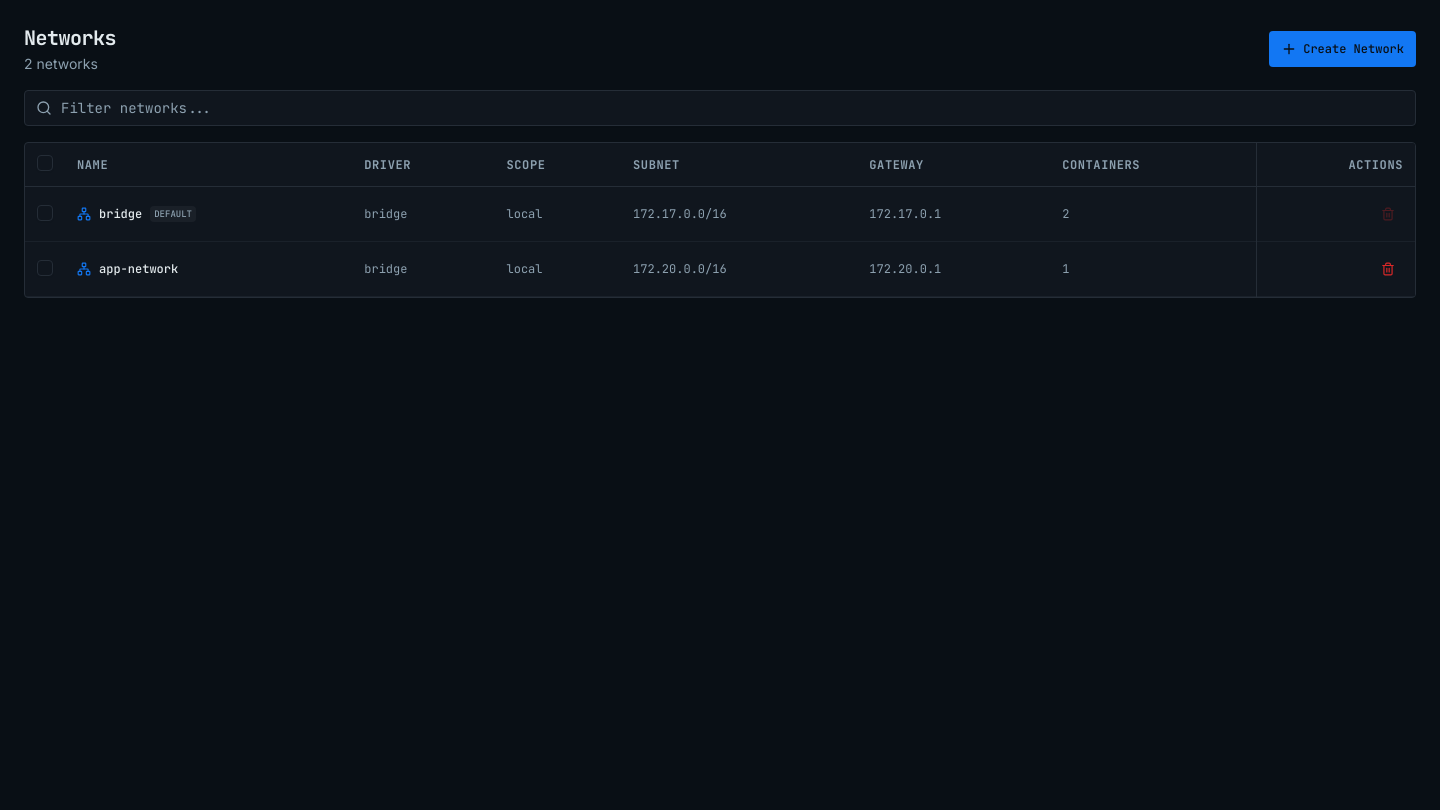
Test: Networks page › deletes nothing when the confirmation is cancelled
This screenshot has width=1440, height=810.
Expected: the text "app-network" is shown, [99,261,178,277]
Click the button without text in the row of "app-network": (1388, 269) [1373,254,1403,284]
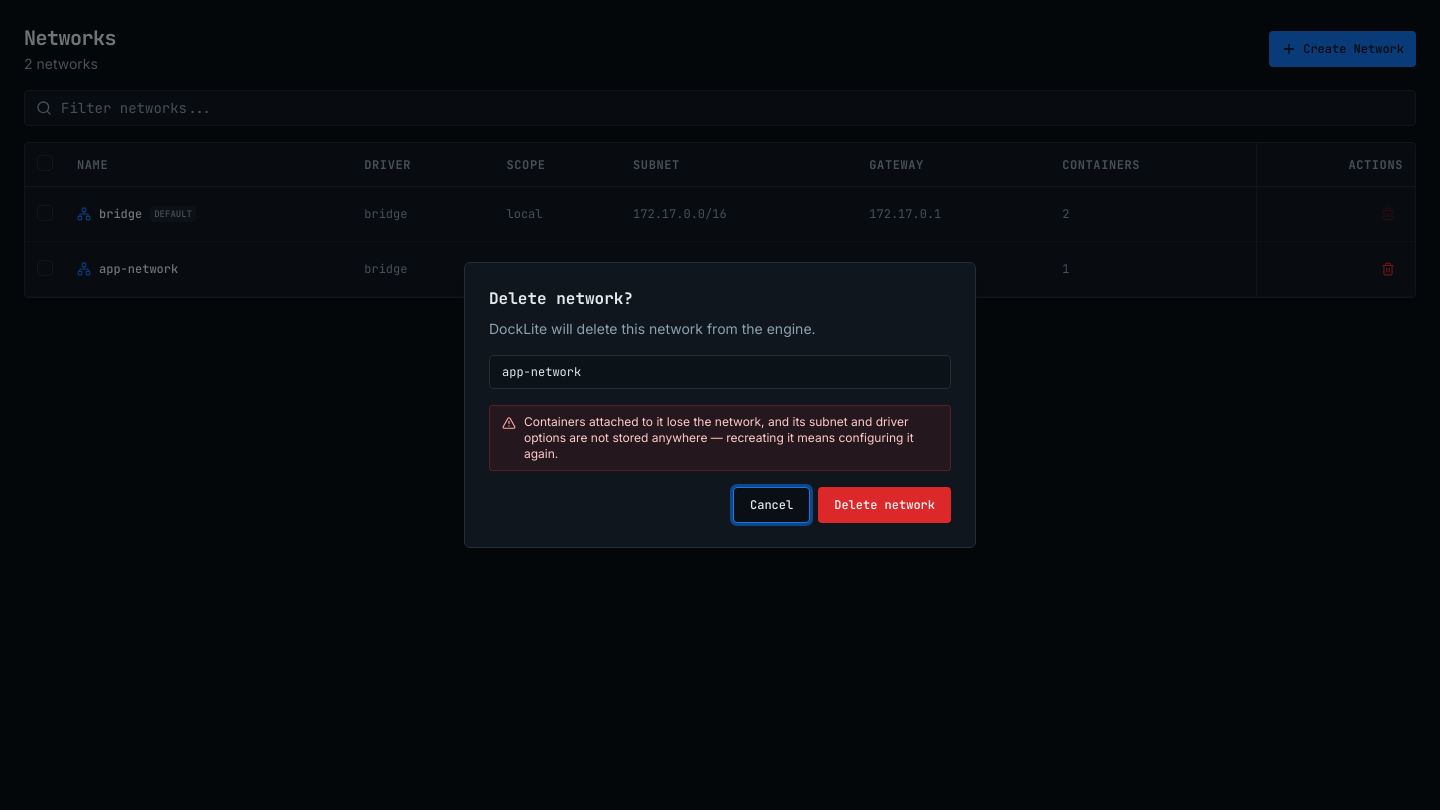
Click the button "Cancel": (772, 505) [733,487,810,523]
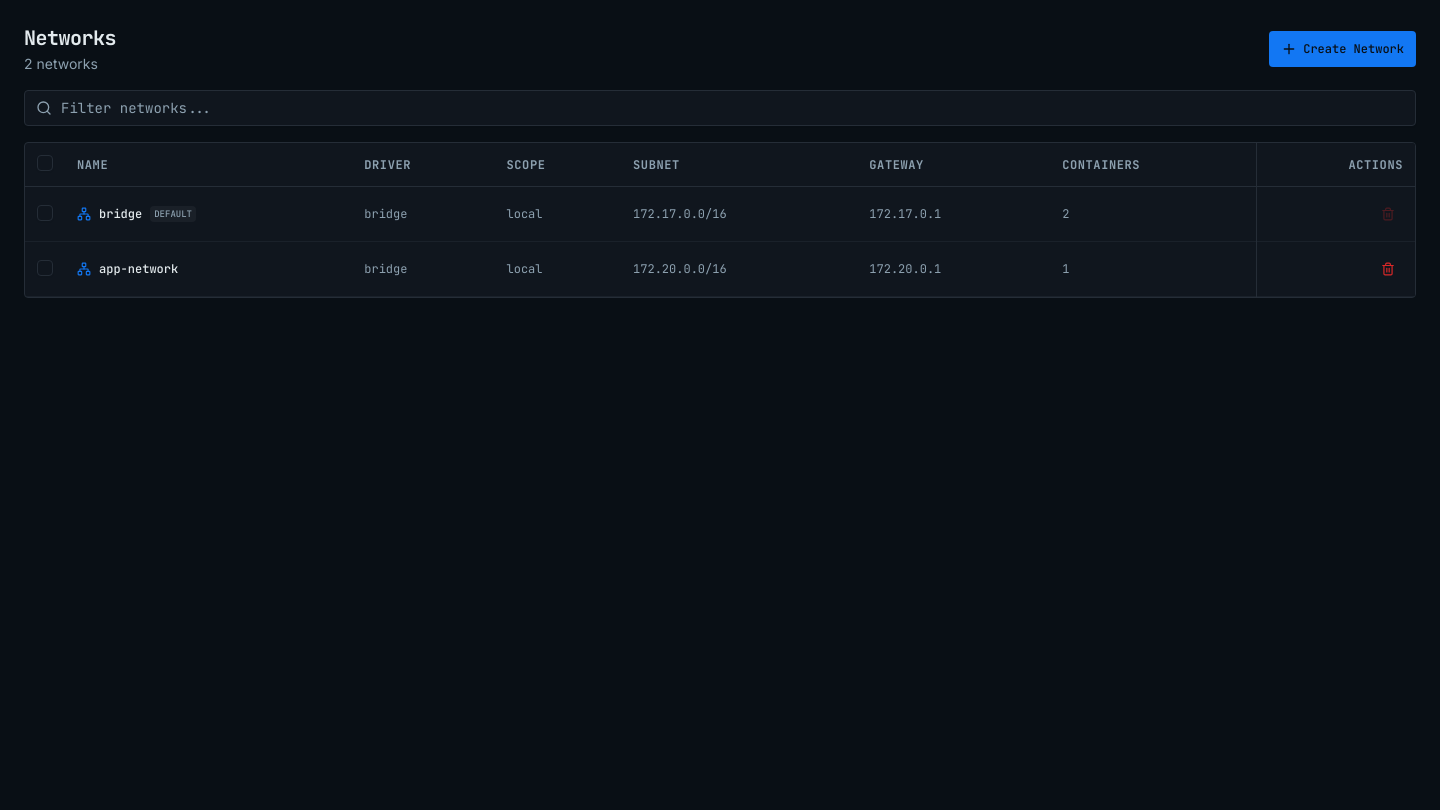
Expected: the dialog is gone
